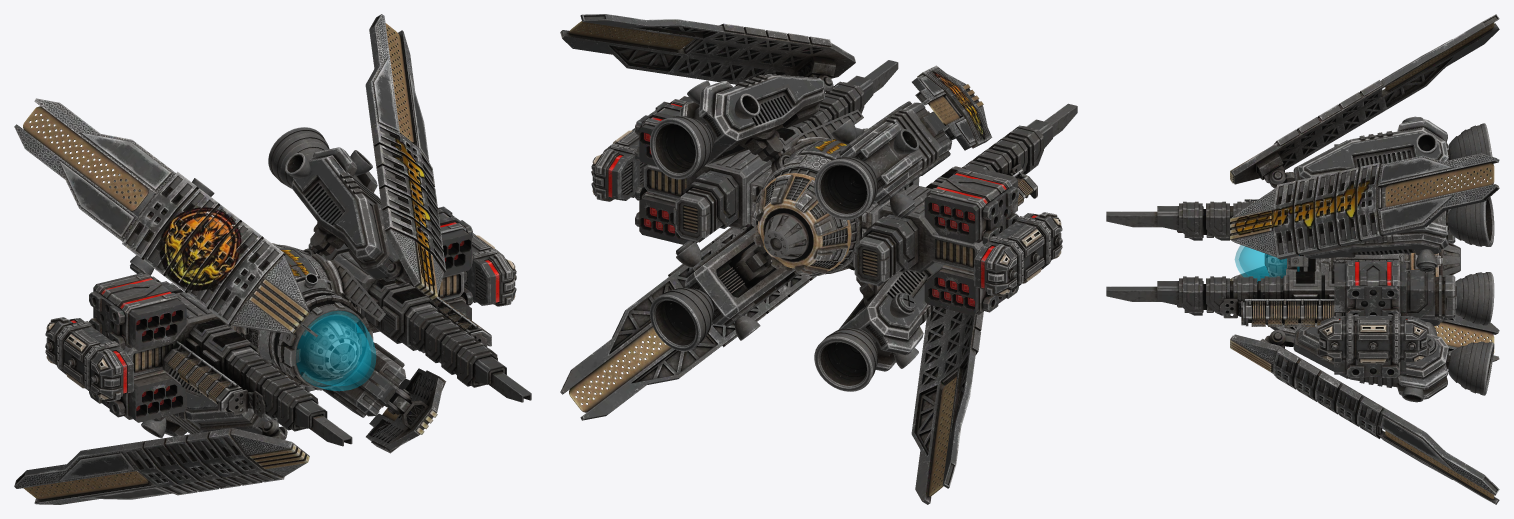
Rendered from vargulf.glb.
The picture shows the model from 3 angles, left to right: view 1: azimuth 30°, elevation 25°; view 2: azimuth 150°, elevation 25°; view 3: azimuth 270°, elevation 25°; orthographic projection. The views are drawn at different scales.
Visible parts, largest first — view 1: root; view 2: root; view 3: root.
Part boxes in pixels (bbox=[...]): root: bbox=[14, 14, 531, 504]; root: bbox=[560, 14, 1077, 504]; root: bbox=[1106, 14, 1499, 504].
Bounding box in the file's own units: 26 × 23.8 × 24.46.
8 materials, 7 textured.
